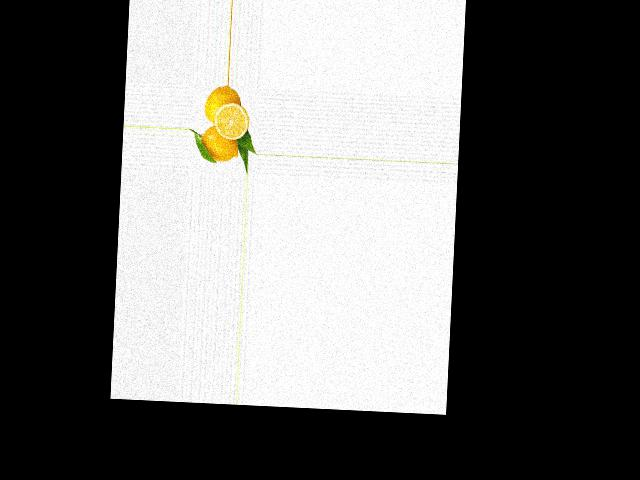lemon: (204, 84, 244, 124)
